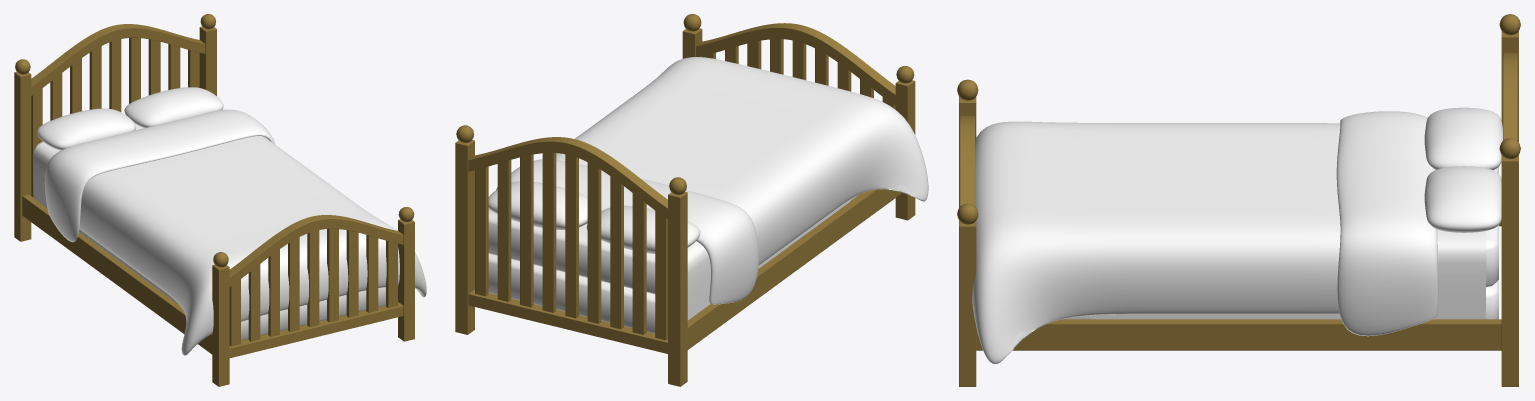
File: bed2.glb
3 renders of one model, left to right at view 1: azimuth 30°, elevation 25°; view 2: azimuth 150°, elevation 25°; view 3: azimuth 270°, elevation 25°, orthographic. The views are drawn at different scales.
Parts seen in each view (by area): view 1: Plane, Cube.003_Cube.005, Cube, Cube.002_Cube.003, Cube.004_Cube.007, Cube.011_Cube.012, Cube.012_Cube.013, Cube.005_Cube.008, Plane.001, Cube.001_Cube.002; view 2: Plane, Cube.003_Cube.005, Cube.002_Cube.003, Cube, Cube.004_Cube.007, Cube.006_Cube.009, Cube.005_Cube.008, Plane.001, Cube.012_Cube.013, Cube.011_Cube.012, Cube.001_Cube.002; view 3: Plane, Cube.004_Cube.007, Cube, Plane.001, Cube.012_Cube.013, Cube.011_Cube.012, Cube.002_Cube.003, Cube.001_Cube.002, Cube.006_Cube.009, Cube.005_Cube.008.
Boxes of the visible parts, <box> form: Plane: <box>44,109,426,355</box>; Cube.003_Cube.005: <box>31,38,397,346</box>; Cube: <box>14,26,414,386</box>; Cube.002_Cube.003: <box>31,24,403,358</box>; Cube.004_Cube.007: <box>22,194,212,354</box>; Cube.011_Cube.012: <box>37,108,135,150</box>; Cube.012_Cube.013: <box>124,87,223,127</box>; Cube.005_Cube.008: <box>241,287,385,340</box>; Plane.001: <box>33,124,178,303</box>; Cube.001_Cube.002: <box>15,14,414,267</box>; Plane: <box>496,57,928,304</box>; Cube.003_Cube.005: <box>475,39,895,340</box>; Cube.002_Cube.003: <box>468,23,895,353</box>; Cube: <box>455,28,915,386</box>; Cube.004_Cube.007: <box>687,189,901,349</box>; Cube.006_Cube.009: <box>488,213,655,294</box>; Cube.005_Cube.008: <box>488,195,858,333</box>; Plane.001: <box>488,198,852,320</box>; Cube.012_Cube.013: <box>488,181,587,229</box>; Cube.011_Cube.012: <box>586,205,700,253</box>; Cube.001_Cube.002: <box>456,14,914,194</box>; Plane: <box>972,111,1438,363</box>; Cube.004_Cube.007: <box>976,221,1501,350</box>; Cube: <box>959,31,1518,386</box>; Plane.001: <box>1084,229,1486,319</box>; Cube.012_Cube.013: <box>1424,166,1501,232</box>; Cube.011_Cube.012: <box>1424,107,1502,170</box>; Cube.002_Cube.003: <box>960,52,1517,205</box>; Cube.001_Cube.002: <box>957,14,1520,224</box>; Cube.006_Cube.009: <box>1486,167,1498,286</box>; Cube.005_Cube.008: <box>1062,280,1498,319</box>.
Bounding box in the file's own units: 1.45 × 1.08 × 2.14.
